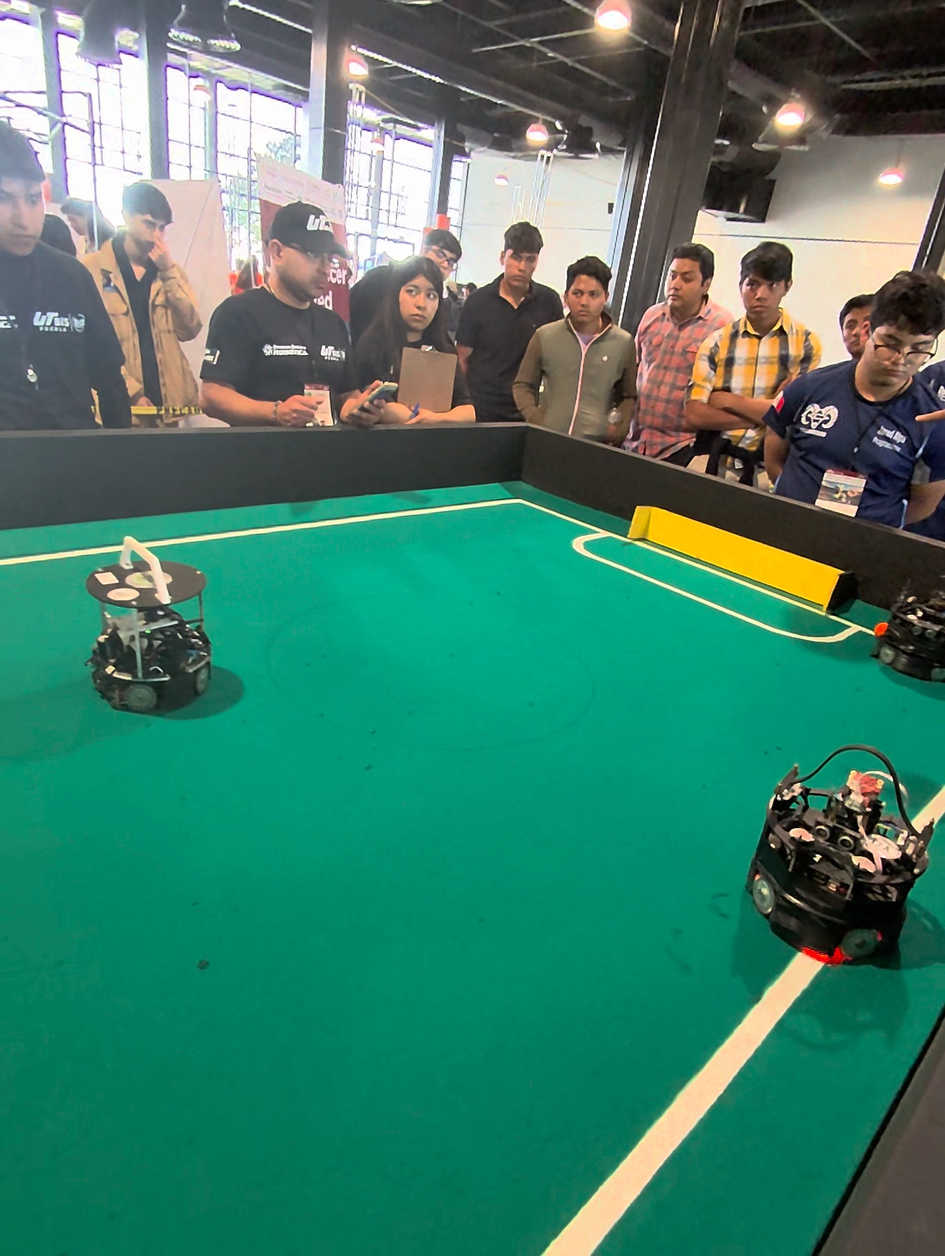Robot: (748, 728, 937, 980), (80, 533, 222, 721), (873, 575, 945, 700)
